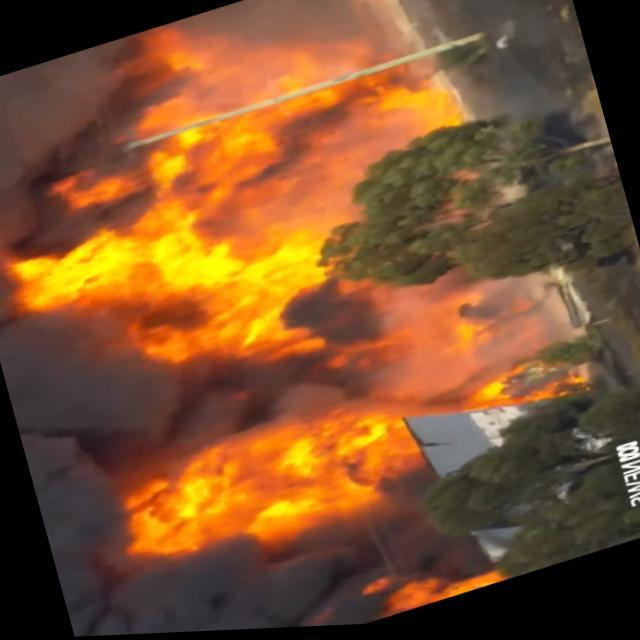fire: (0, 1, 518, 463), (107, 383, 430, 593), (450, 343, 598, 433), (356, 546, 496, 626)
